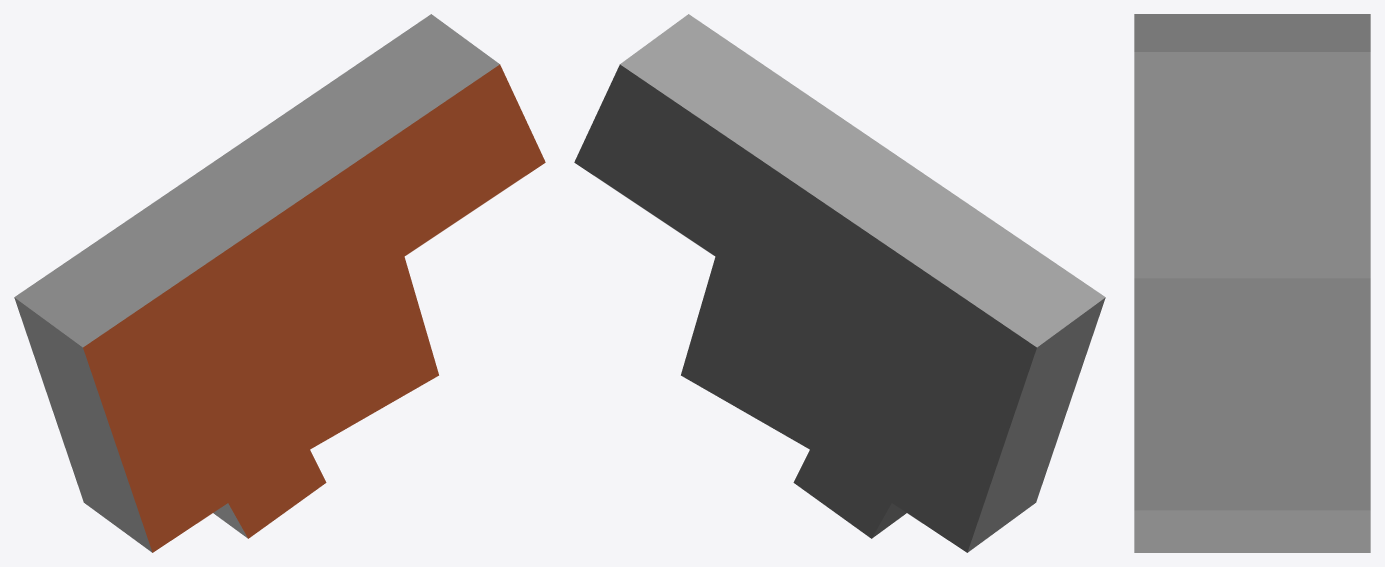
The model's file is construction_1849_assumed_A_Casa_h6m.obj.
3 renders of one model, left to right at view 1: azimuth 30°, elevation 25°; view 2: azimuth 150°, elevation 25°; view 3: azimuth 270°, elevation 25°, orthographic. The views are drawn at different scales.
Visible parts, largest first — view 1: construction_1849_assumed_A_Casa; view 2: construction_1849_assumed_A_Casa; view 3: construction_1849_assumed_A_Casa.
Part boxes in pixels (box(x1,y1,x2,y2)): construction_1849_assumed_A_Casa: box(14, 14, 545, 552); construction_1849_assumed_A_Casa: box(574, 14, 1105, 552); construction_1849_assumed_A_Casa: box(1134, 14, 1370, 552).
Size of the model in its own units: 23.32 by 19.9 by 6.
